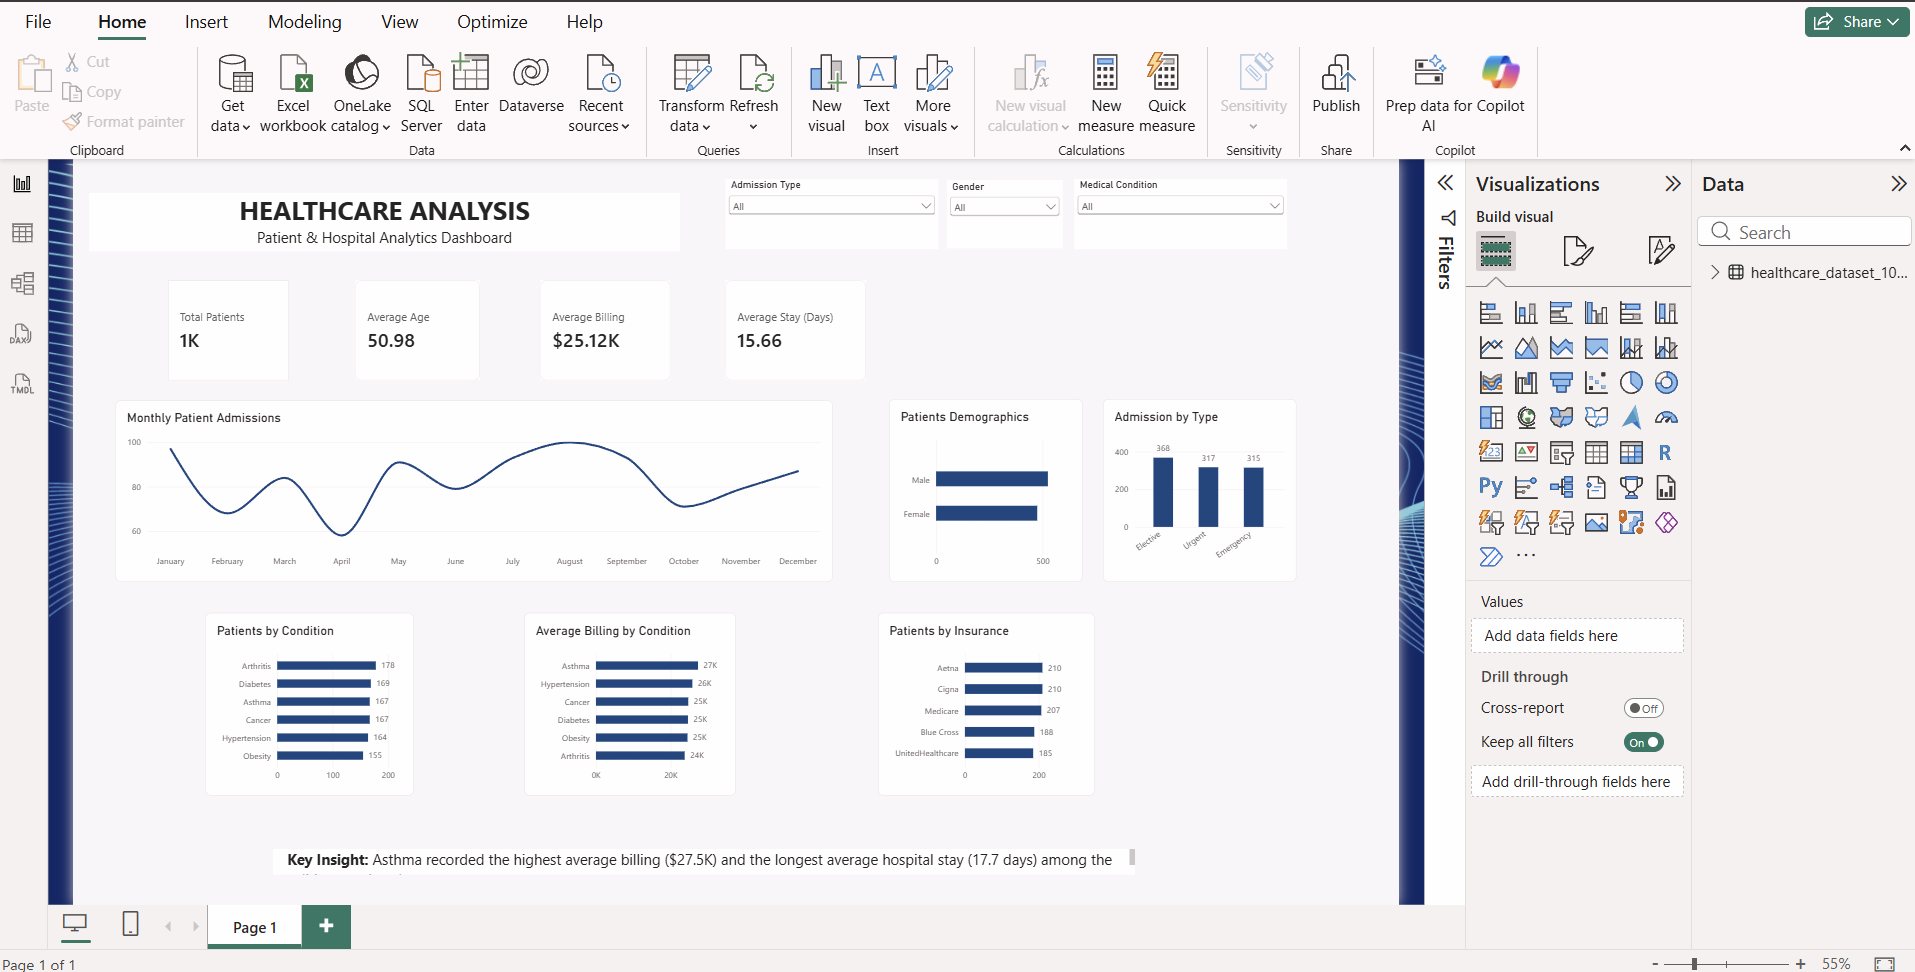

This screenshot's page, from the dashboard's own definition file:
{"tool":"powerbi","page":{"name":"Page 1","canvas":[1920,1080],"ordinal":0},"visuals":[{"type":"cardVisual","fields":{"Data":["CountNonNull(healthcare_dataset_1000.Name)"]},"box":[136.7,175,175,145],"z":0},{"type":"cardVisual","fields":{"Data":["Avg(healthcare_dataset_1000.Age)"]},"box":[408.3,175,180,145],"z":1},{"type":"cardVisual","fields":{"Data":["Avg(healthcare_dataset_1000.Billing Amount)"]},"box":[676.7,175,188.3,145],"z":2},{"type":"cardVisual","fields":{"Data":["Avg(healthcare_dataset_1000.-- Calculate the number of days each patient stayed in the hospitalStay Days)"]},"box":[945,175,203.3,145],"z":3},{"type":"clusteredBarChart","title":"Patients Demographics","fields":{"Category":["healthcare_dataset_1000.Gender"],"Y":["CountNonNull(healthcare_dataset_1000.Name)"]},"box":[1181.7,348.3,280,265],"z":4},{"type":"clusteredBarChart","title":"Patients  by  Condition","fields":{"Category":["healthcare_dataset_1000.Medical Condition"],"Y":["CountNonNull(healthcare_dataset_1000.Name)"]},"box":[191.7,656.7,301.7,265],"z":5},{"type":"clusteredColumnChart","title":"Admission by Type","fields":{"Category":["healthcare_dataset_1000.Admission Type"],"Y":["CountNonNull(healthcare_dataset_1000.Name)"]},"box":[1491.7,348.3,280,265],"z":6},{"type":"clusteredBarChart","title":"Patients by Insurance","fields":{"Category":["healthcare_dataset_1000.Insurance Provider"],"Y":["CountNonNull(healthcare_dataset_1000.Name)"]},"box":[1165,656.7,313.3,265],"z":7},{"type":"clusteredBarChart","title":"Average Billing by Condition","fields":{"Category":["healthcare_dataset_1000.Medical Condition"],"Y":["Avg(healthcare_dataset_1000.Billing Amount)"]},"box":[653.3,656.7,306.7,265],"z":8},{"type":"textbox","box":[23.3,48.3,855,85],"z":9},{"type":"lineChart","title":"Monthly Patient Admissions","fields":{"Category":["healthcare_dataset_1000.Date of Admission.Variation.Date Hierarchy.Month","healthcare_dataset_1000.Date of Admission.Variation.Date Hierarchy.Day"],"Y":["CountNonNull(healthcare_dataset_1000.Name)"]},"box":[61.7,350,1038.3,263.3],"z":10},{"type":"slicer","fields":{"Values":["healthcare_dataset_1000.Gender"]},"box":[1265,31.7,168.3,98.3],"z":11},{"type":"slicer","fields":{"Values":["healthcare_dataset_1000.Medical Condition"]},"box":[1450,28.3,308.3,101.7],"z":12},{"type":"slicer","fields":{"Values":["healthcare_dataset_1000.Admission Type"]},"box":[945,28.3,308.3,101.7],"z":13},{"type":"textbox","box":[290,998.3,1248.3,36.7],"z":14}]}

Visuals, with their boxes on the page's 1920x1080 design canvas (x1, y1, x2, y2). These are canvas units, not pixel positions in the 1915x972 screenshot, which may show the page scaled, cropped or inside an application window:
cardVisual - CountNonNull(healthcare_dataset_1000.Name): box=[137, 175, 312, 320]
cardVisual - Avg(healthcare_dataset_1000.Age): box=[408, 175, 588, 320]
cardVisual - Avg(healthcare_dataset_1000.Billing Amount): box=[677, 175, 865, 320]
cardVisual - Avg(healthcare_dataset_1000.-- Calculate the number of days each patient stayed in the hospitalStay Days): box=[945, 175, 1148, 320]
"Patients Demographics" clusteredBarChart: box=[1182, 348, 1462, 613]
"Patients  by  Condition" clusteredBarChart: box=[192, 657, 493, 922]
"Admission by Type" clusteredColumnChart: box=[1492, 348, 1772, 613]
"Patients by Insurance" clusteredBarChart: box=[1165, 657, 1478, 922]
"Average Billing by Condition" clusteredBarChart: box=[653, 657, 960, 922]
textbox: box=[23, 48, 878, 133]
"Monthly Patient Admissions" lineChart: box=[62, 350, 1100, 613]
slicer - healthcare_dataset_1000.Gender: box=[1265, 32, 1433, 130]
slicer - healthcare_dataset_1000.Medical Condition: box=[1450, 28, 1758, 130]
slicer - healthcare_dataset_1000.Admission Type: box=[945, 28, 1253, 130]
textbox: box=[290, 998, 1538, 1035]
